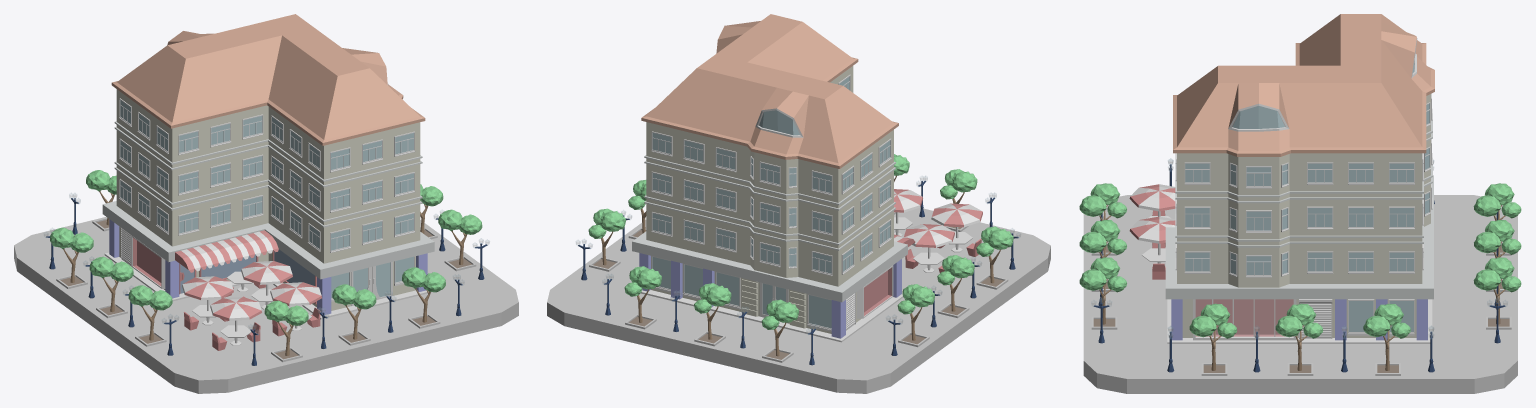
Rendered from plaza.fbx.
The picture shows the model from 3 angles, left to right: view 1: azimuth 30°, elevation 25°; view 2: azimuth 150°, elevation 25°; view 3: azimuth 270°, elevation 25°; orthographic projection. The views are drawn at different scales.
Visible parts, largest first — view 1: Building_facad, Platform, shed1, shed, showcase, Cube_24_2, Cube_19_2, Cube_18_2, Disc_8, Disc_6, Disc_2_2, Disc_7 (+6 smaller); view 2: Building_facad, Platform, showcase, Cube_22_2, Disc_6, Cube_12, Disc_5, Disc_8, Disc_7, Cube_7_2, Cube_8_26, Sphere_18 (+3 smaller); view 3: Building_facad, Platform, showcase1, blinds_2, Cube_10_2, Disc_5, Disc_6, Disc_4, Cube_2_3, Cube_14, glass_59, glass_16 (+34 smaller).
Boxes of the visible parts, <box> form: Building_facad: <box>102,14,434,319</box>; Platform: <box>14,217,518,393</box>; shed1: <box>175,230,278,272</box>; shed: <box>181,231,273,271</box>; showcase: <box>131,236,165,288</box>; Cube_24_2: <box>353,262,390,297</box>; Cube_19_2: <box>274,249,314,285</box>; Cube_18_2: <box>201,254,256,278</box>; Disc_8: <box>182,276,233,310</box>; Disc_6: <box>210,297,261,331</box>; Disc_2_2: <box>241,261,292,295</box>; Disc_7: <box>183,276,233,299</box>; Building_facad: <box>632,14,907,342</box>; Platform: <box>547,207,1050,393</box>; showcase: <box>856,265,893,318</box>; Cube_22_2: <box>809,295,831,328</box>; Disc_6: <box>931,203,981,238</box>; Cube_12: <box>831,300,845,338</box>; Disc_5: <box>932,203,982,227</box>; Disc_8: <box>905,224,953,258</box>; Disc_7: <box>904,224,954,247</box>; Cube_7_2: <box>684,264,702,296</box>; Cube_8_26: <box>716,272,739,305</box>; Sphere_18: <box>600,211,625,231</box>; Building_facad: <box>1165,14,1434,343</box>; Platform: <box>1083,195,1517,393</box>; showcase1: <box>1193,299,1296,340</box>; blinds_2: <box>1299,299,1332,338</box>; Cube_10_2: <box>1349,301,1373,331</box>; Disc_5: <box>1129,184,1175,211</box>; Disc_6: <box>1131,184,1175,216</box>; Disc_4: <box>1131,216,1175,255</box>; Cube_2_3: <box>1416,299,1427,340</box>; Cube_14: <box>1171,299,1182,340</box>; glass_59: <box>1246,211,1270,230</box>; glass_16: <box>1185,252,1209,271</box>.
Size of the model in its own units: 4823 by 3074 by 4841.
